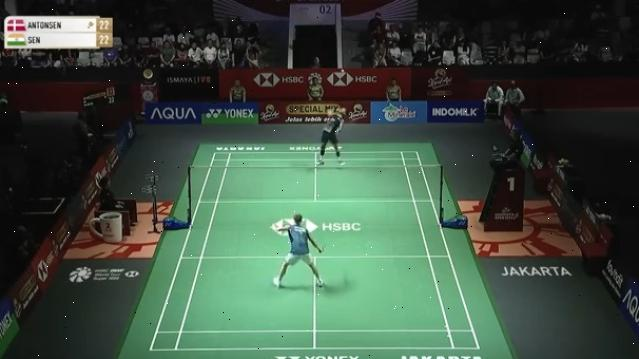Shuttlecock: (339, 66, 349, 78)
